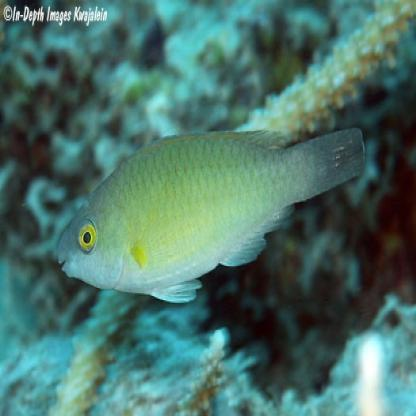Bio: (51, 119, 367, 314)
